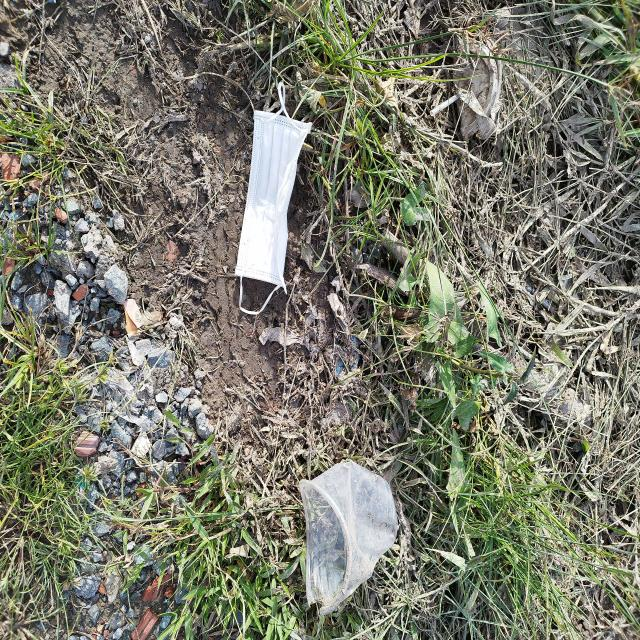mask: (234, 80, 312, 316)
plastic glass: (298, 460, 398, 616)
